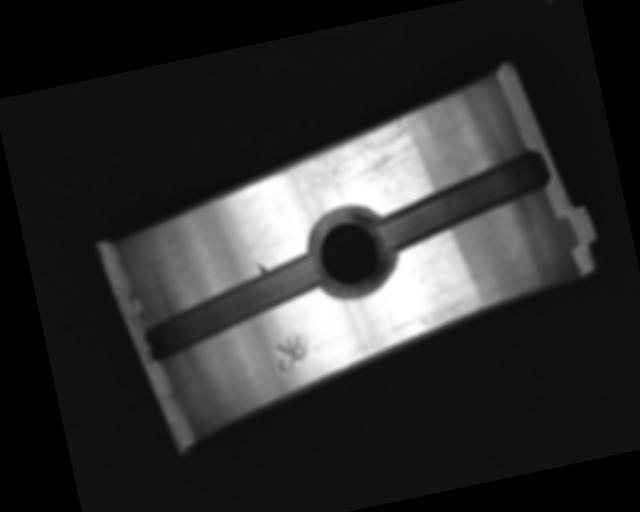bruise: (270, 333, 313, 376), (253, 259, 268, 276)
gap: (132, 253, 330, 361), (369, 149, 558, 255)
hole: (302, 201, 401, 303)
scratch: (275, 101, 451, 212)
